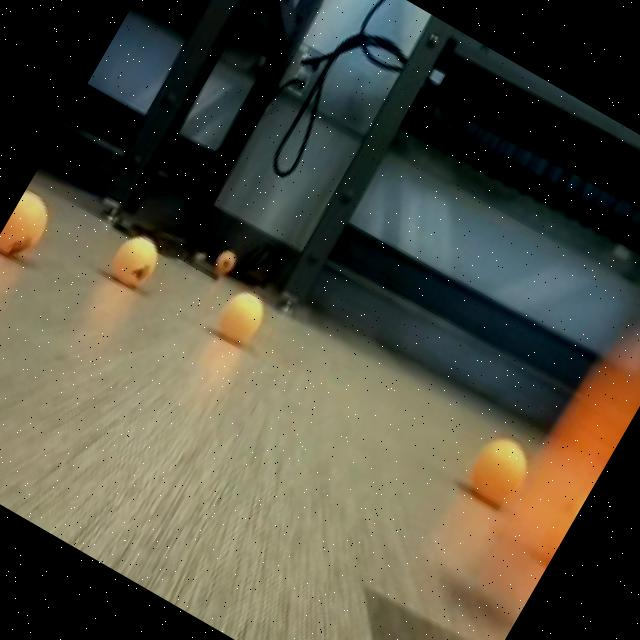ping-pong-ball: (448, 419, 551, 529), (0, 180, 66, 275), (97, 220, 172, 299), (526, 481, 590, 572), (208, 278, 280, 356), (208, 242, 244, 286)
